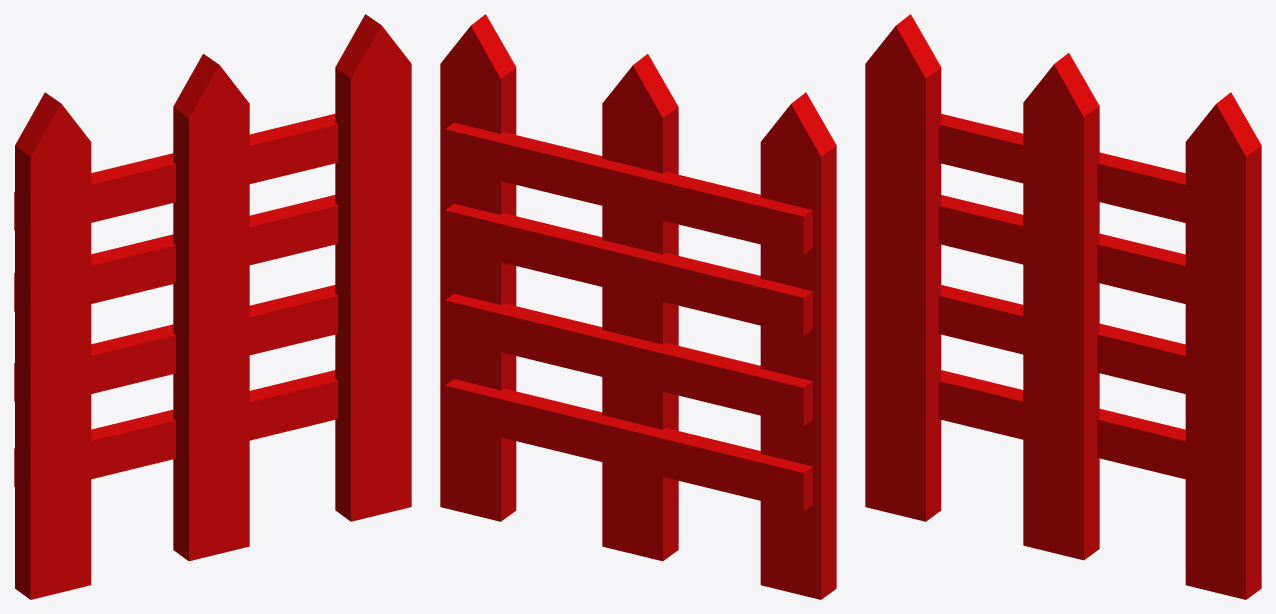
File: fence.fbx
3 views of the same model, side by side, from view 1: azimuth 30°, elevation 25°; view 2: azimuth 150°, elevation 25°; view 3: azimuth 330°, elevation 25° (orthographic).
Visible parts, largest first — view 1: pCube9; view 2: pCube9; view 3: pCube9.
Boxes of the visible parts, x1=… form: pCube9: x1=14, y1=14, x2=411, y2=599; pCube9: x1=440, y1=14, x2=836, y2=599; pCube9: x1=865, y1=14, x2=1261, y2=599.
Size of the model in its own units: 1.64 by 2.01 by 0.1839.
